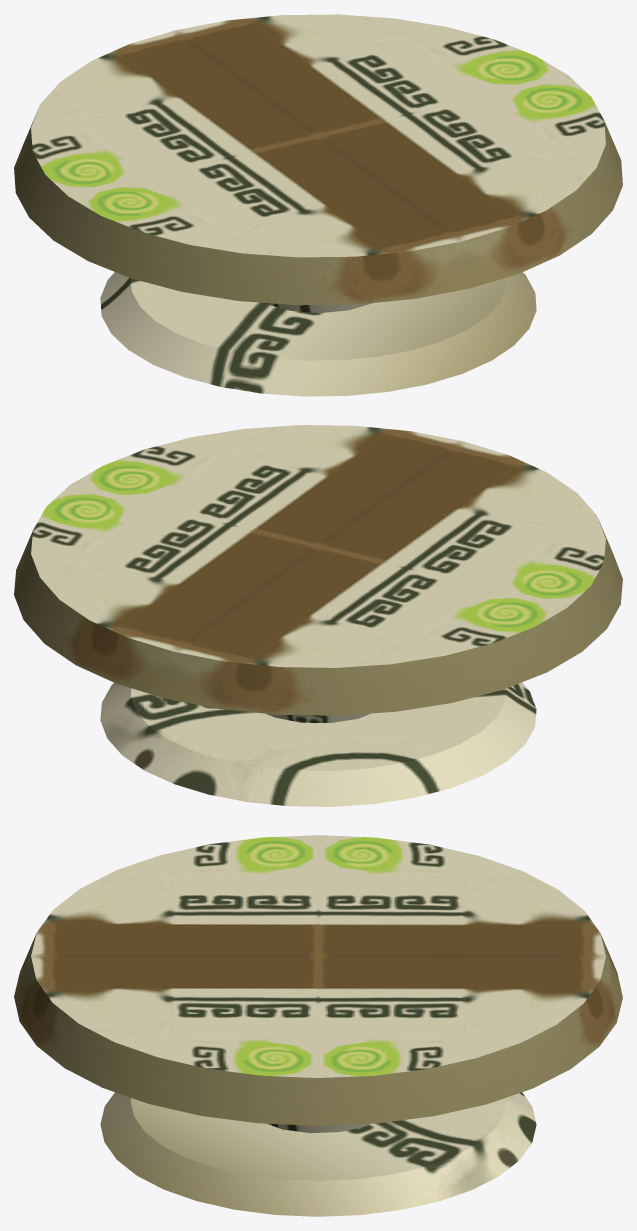
Rendered from Prop_Table.fbx.
The picture shows the model from 3 angles, top to bottom: view 1: azimuth 30°, elevation 25°; view 2: azimuth 150°, elevation 25°; view 3: azimuth 270°, elevation 25°; orthographic projection.
Visible parts, largest first — view 1: Table_01; view 2: Table_01; view 3: Table_01.
Part boxes in pixels (x1,y1,x2,y2): Table_01: (14,14,622,396); Table_01: (14,425,622,806); Table_01: (14,835,622,1216).
Size of the model in its own units: 1.52 by 0.4618 by 1.52.
